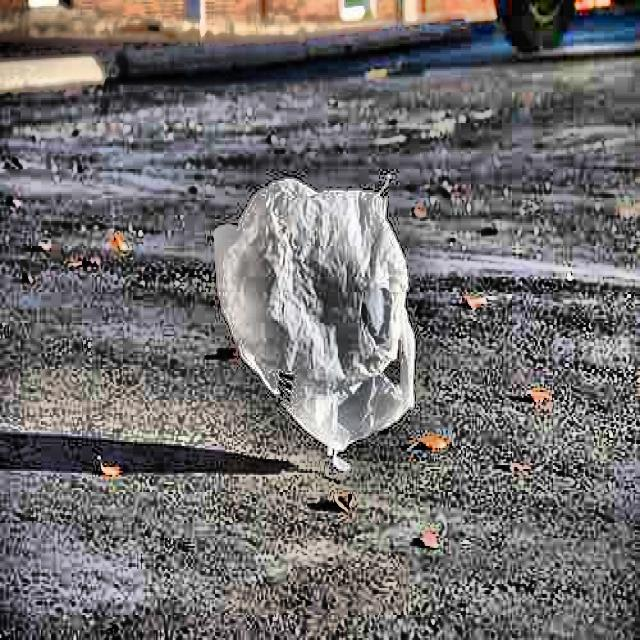Plastic: (203, 161, 433, 472)
